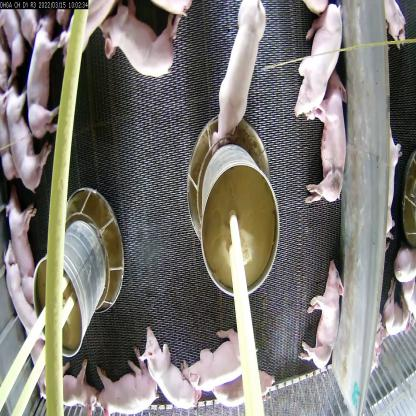Pig: (214, 4, 266, 149), (302, 258, 350, 383), (105, 3, 179, 84), (291, 0, 340, 118), (139, 322, 202, 409), (313, 88, 353, 206), (2, 85, 48, 178), (25, 7, 60, 124), (190, 324, 246, 396), (0, 194, 35, 288), (98, 368, 165, 415), (213, 363, 272, 415), (4, 255, 33, 335), (48, 373, 92, 415)
